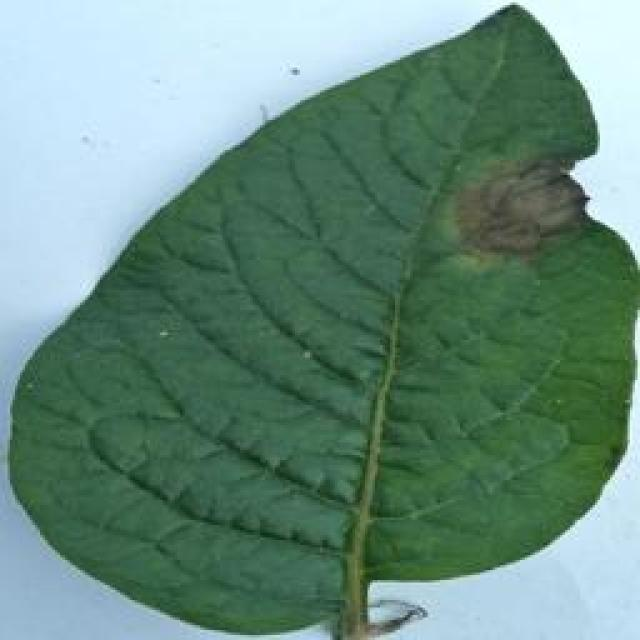Potato_Late_Blight: (8, 10, 621, 626)
